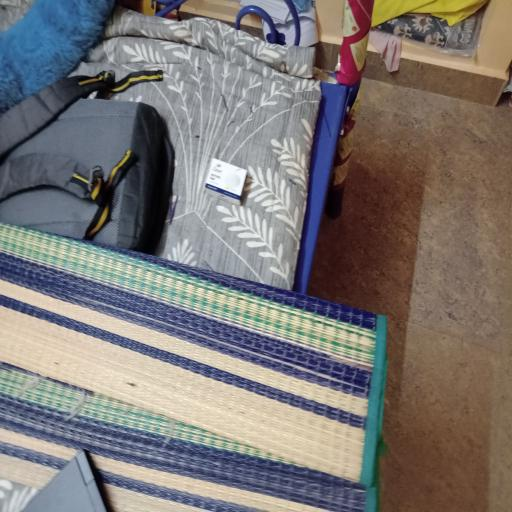Dove`1: (203, 158, 249, 206)
